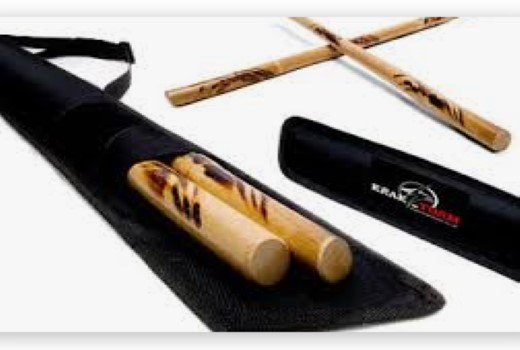baston_e: (187, 18, 406, 114), (295, 34, 494, 117), (127, 157, 236, 270), (185, 152, 333, 234)
baston_v: (226, 227, 294, 292), (301, 224, 354, 286), (479, 122, 511, 155), (157, 78, 184, 117), (408, 10, 463, 27), (282, 5, 318, 30)
